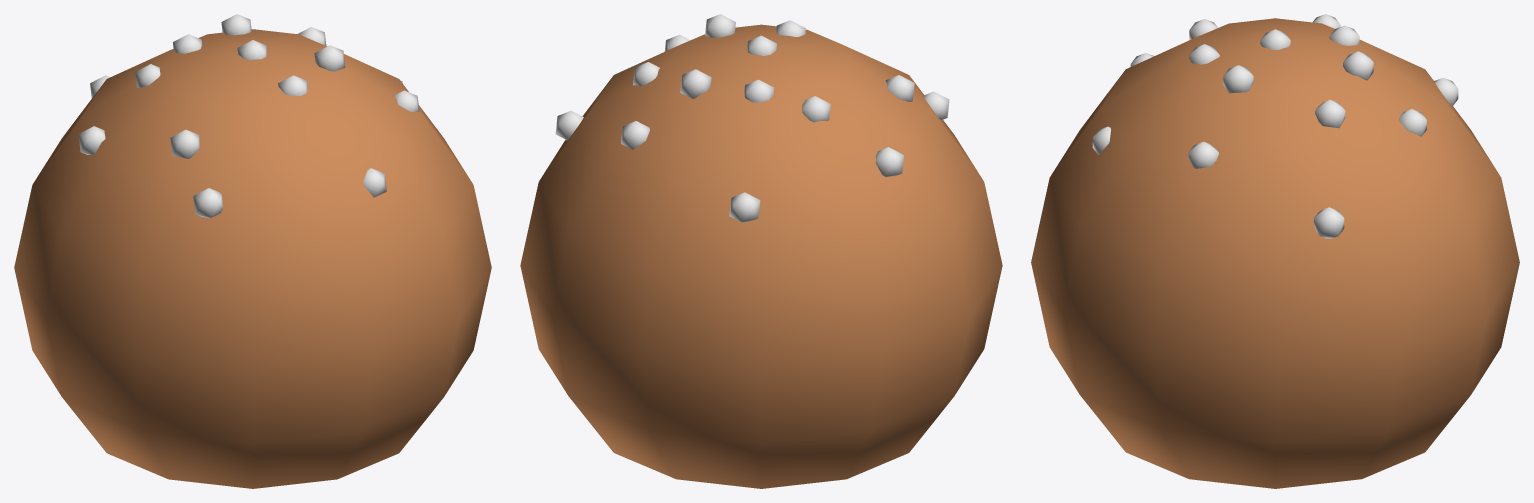
Rendered from bonbons-bush-2.glb.
3 views of the same model, side by side, from view 1: azimuth 30°, elevation 25°; view 2: azimuth 150°, elevation 25°; view 3: azimuth 270°, elevation 25° (orthographic). The views are drawn at different scales.
Visible parts, largest first — view 1: bonbon, sprinkles; view 2: bonbon, sprinkles; view 3: bonbon, sprinkles.
Boxes of the visible parts, x1=… form: bonbon: x1=14, y1=29, x2=491, y2=488; sprinkles: x1=78, y1=14, x2=419, y2=218; bonbon: x1=520, y1=24, x2=1002, y2=488; sprinkles: x1=555, y1=14, x2=949, y2=222; bonbon: x1=1031, y1=18, x2=1519, y2=488; sprinkles: x1=1092, y1=14, x2=1458, y2=238.
Size of what is drawn, in the model's own units: 1 by 0.9562 by 1.
